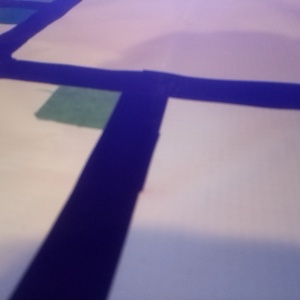bottom_left: (85, 21, 170, 44)
